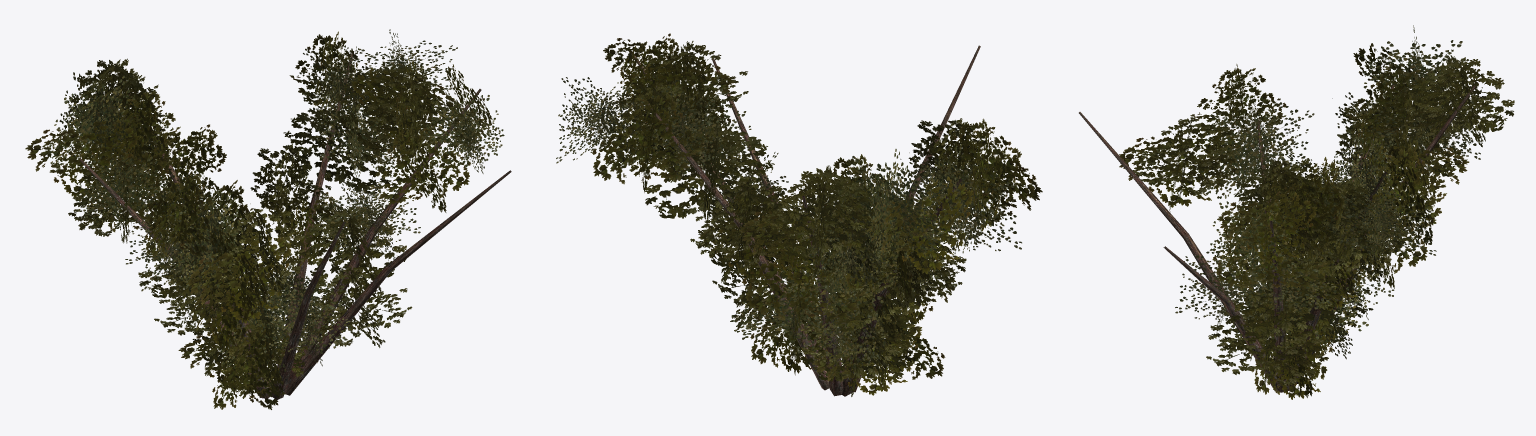
The model's file is bush_3d_06_lod1.glb.
The picture shows the model from 3 angles, left to right: view 1: azimuth 30°, elevation 25°; view 2: azimuth 150°, elevation 25°; view 3: azimuth 270°, elevation 25°; orthographic projection. The views are drawn at different scales.
Parts seen in each view (by area): view 1: foliage_cards, wood_geometry; view 2: foliage_cards, wood_geometry; view 3: foliage_cards, wood_geometry.
Part boxes in pixels (left/top/right/bottom): foliage_cards: left=25, top=29, right=504, bottom=409; wood_geometry: left=79, top=51, right=511, bottom=399; foliage_cards: left=556, top=33, right=1042, bottom=396; wood_geometry: left=631, top=45, right=980, bottom=396; foliage_cards: left=1119, top=25, right=1514, bottom=399; wood_geometry: left=1079, top=84, right=1475, bottom=392.
Size of the model in its own units: 2.93 by 1.94 by 2.64.
2 materials, 2 textured.
